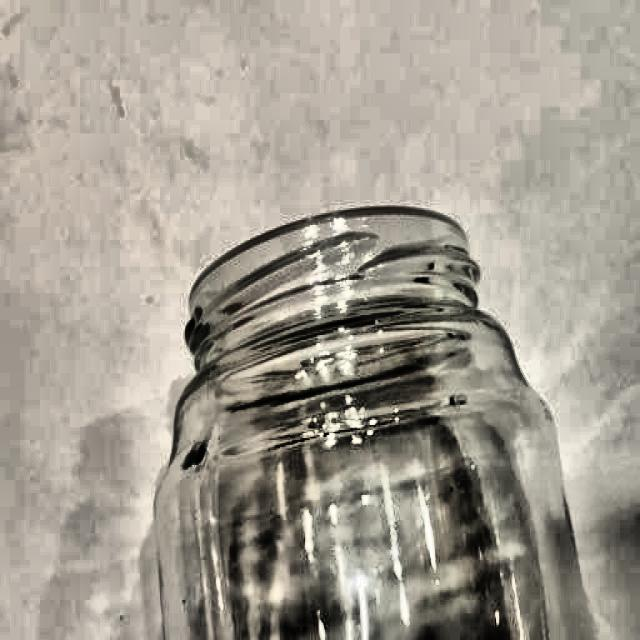glass: (157, 190, 597, 640)
